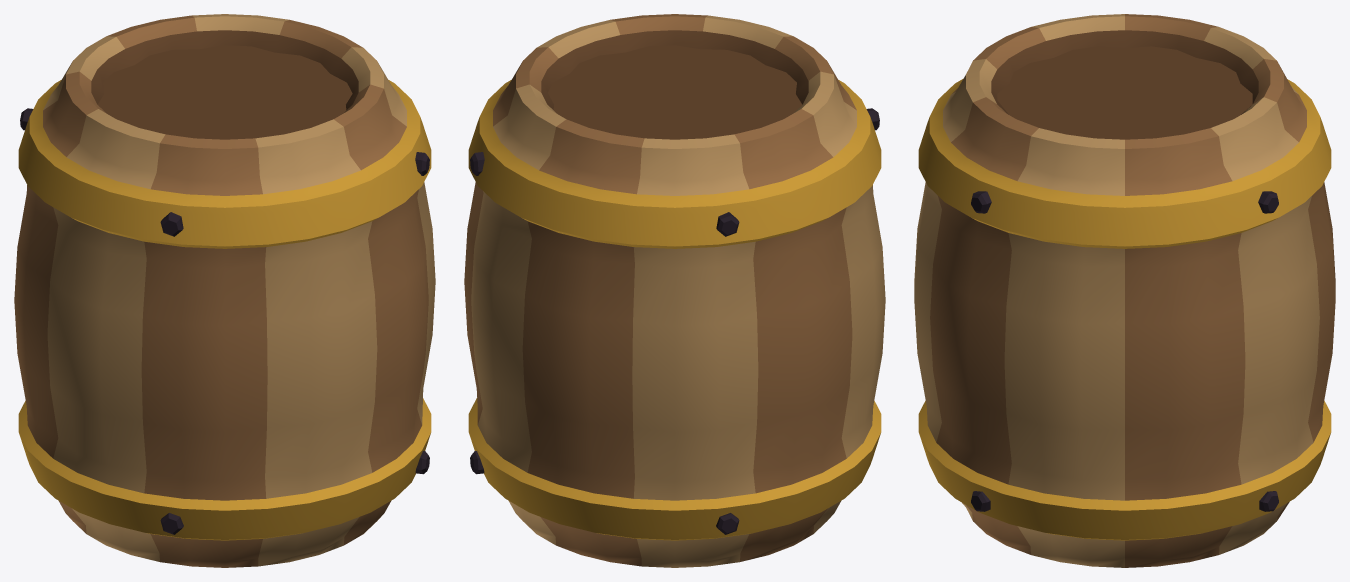
The model's file is Barrel_07.glb.
3 renders of one model, left to right at view 1: azimuth 30°, elevation 25°; view 2: azimuth 150°, elevation 25°; view 3: azimuth 270°, elevation 25°, orthographic.
Parts seen in each view (by area): view 1: Barrel_07; view 2: Barrel_07; view 3: Barrel_07.
Boxes of the visible parts, box(x1,y1,x2,y2) form: Barrel_07: box(14, 14, 435, 567); Barrel_07: box(464, 14, 885, 567); Barrel_07: box(914, 14, 1335, 567).
Size of the model in its own units: 2.1 by 2.38 by 2.14.
